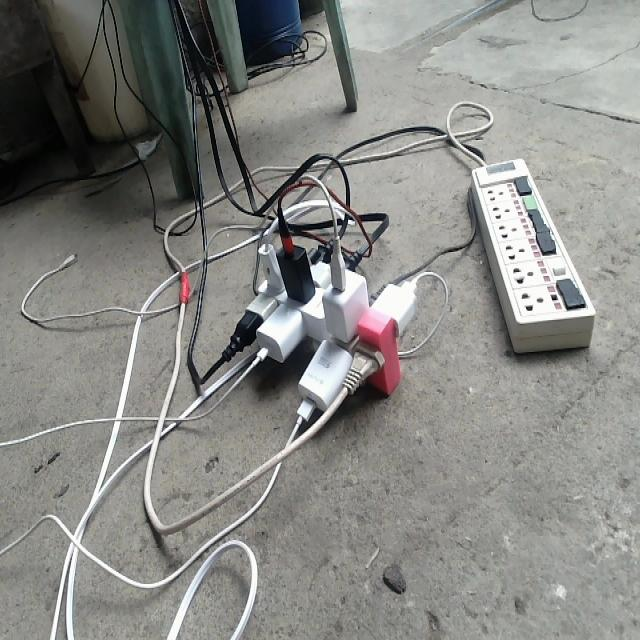-: (220, 173, 417, 424)
